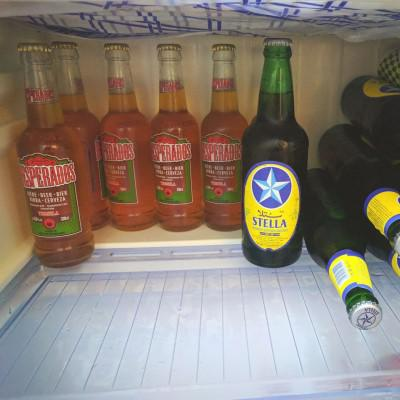beer: (8, 33, 400, 328)
